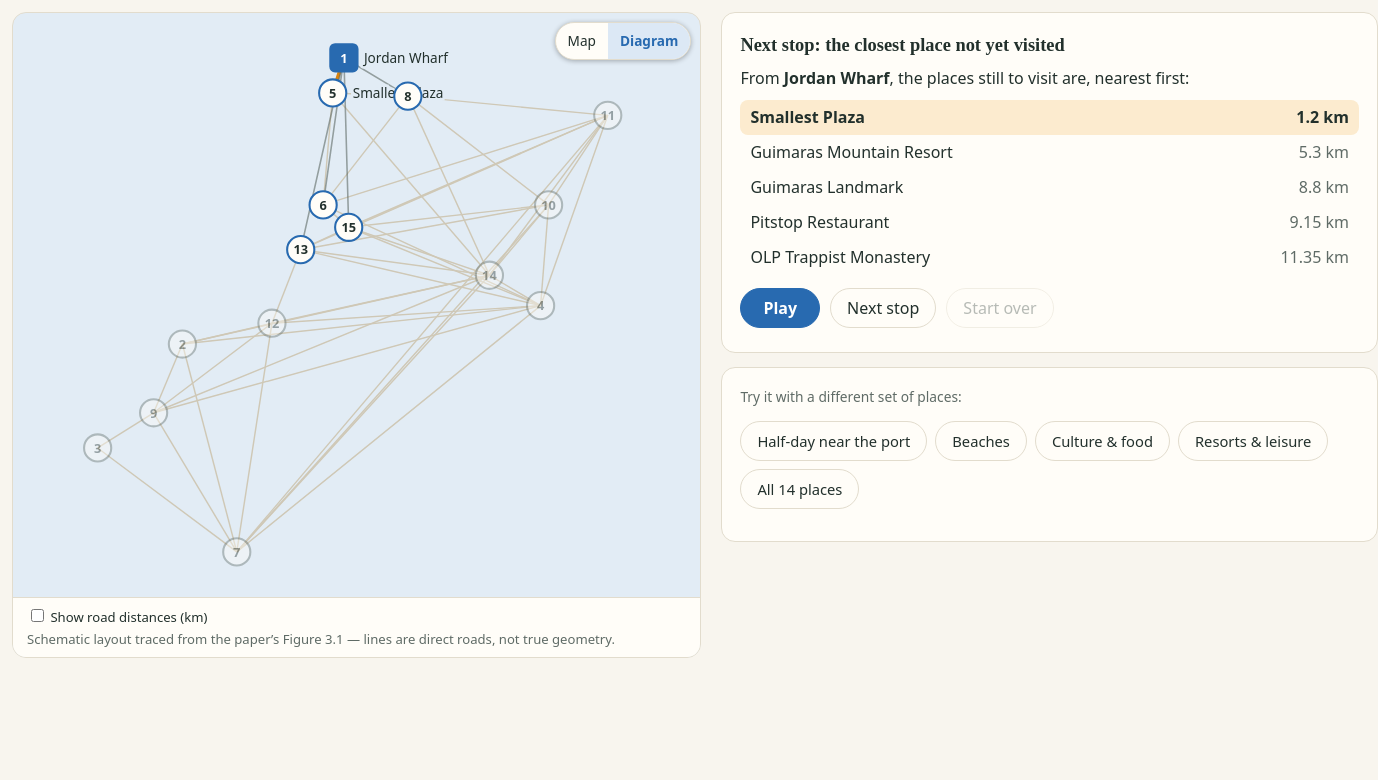
Test: the animated demos play by themselves › Nearest Neighbor demo finishes and offers to watch again
The width and height of the screenshot is (1378, 780).
Click the button "Play" at point(780, 308), box left=740, top=288, right=820, bottom=328
Wait 22000 ms
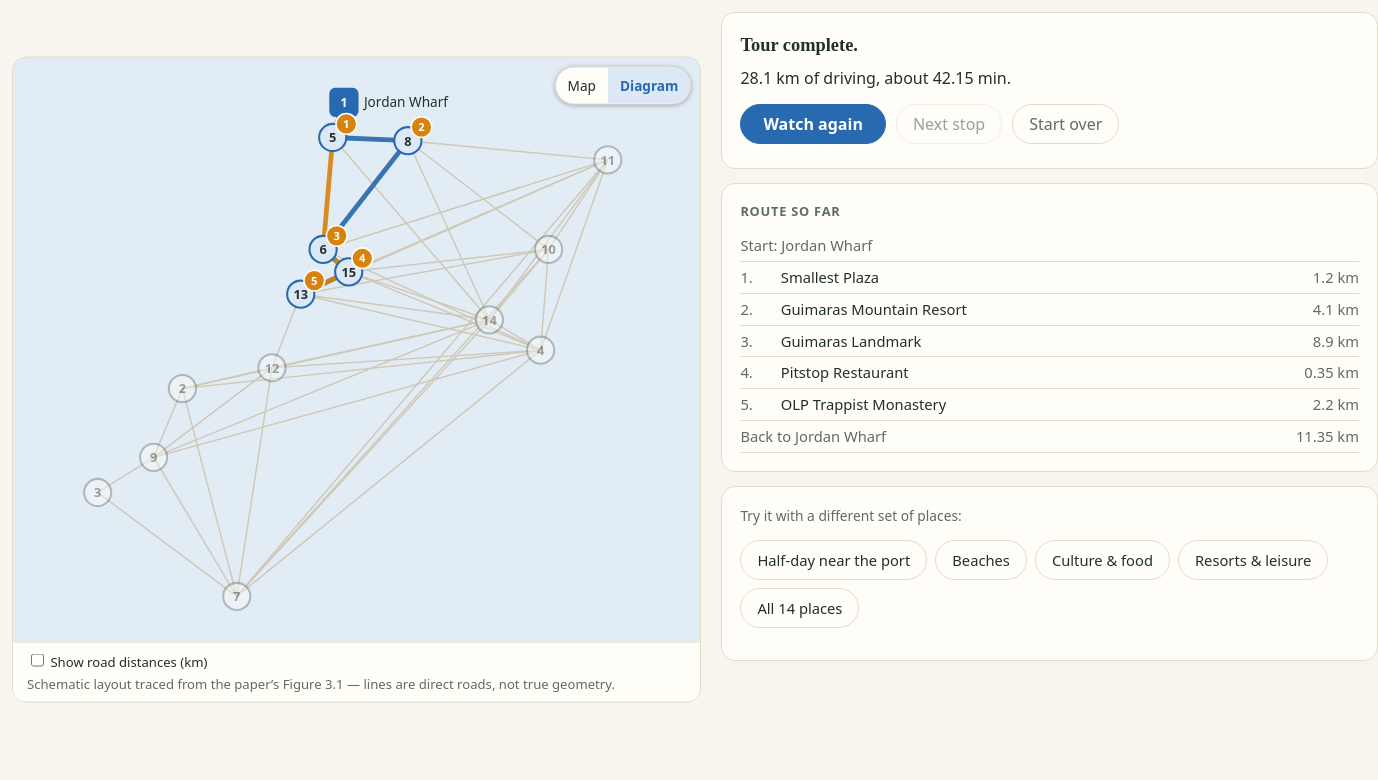
Result: the text "Tour complete." is shown at left=740, top=35, right=858, bottom=55
Result: the text "Watch again" is shown at left=740, top=104, right=886, bottom=144
